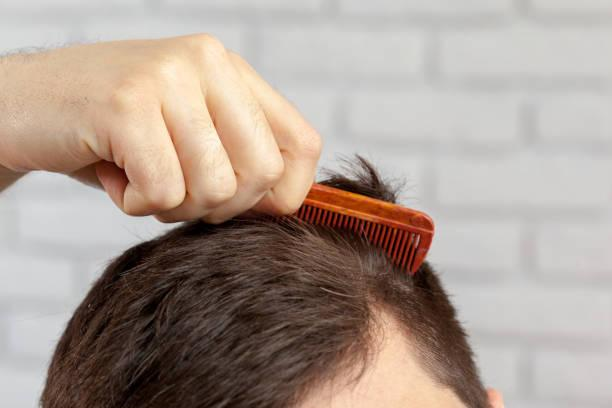dry hair: (304, 232, 401, 280), (255, 298, 383, 331)
